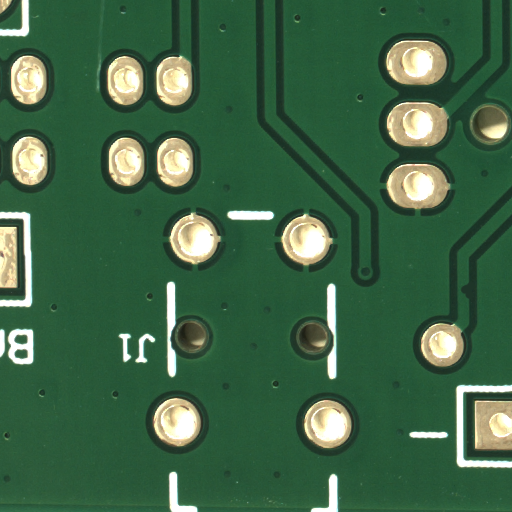Mouse_bite: (465, 291, 474, 306)
